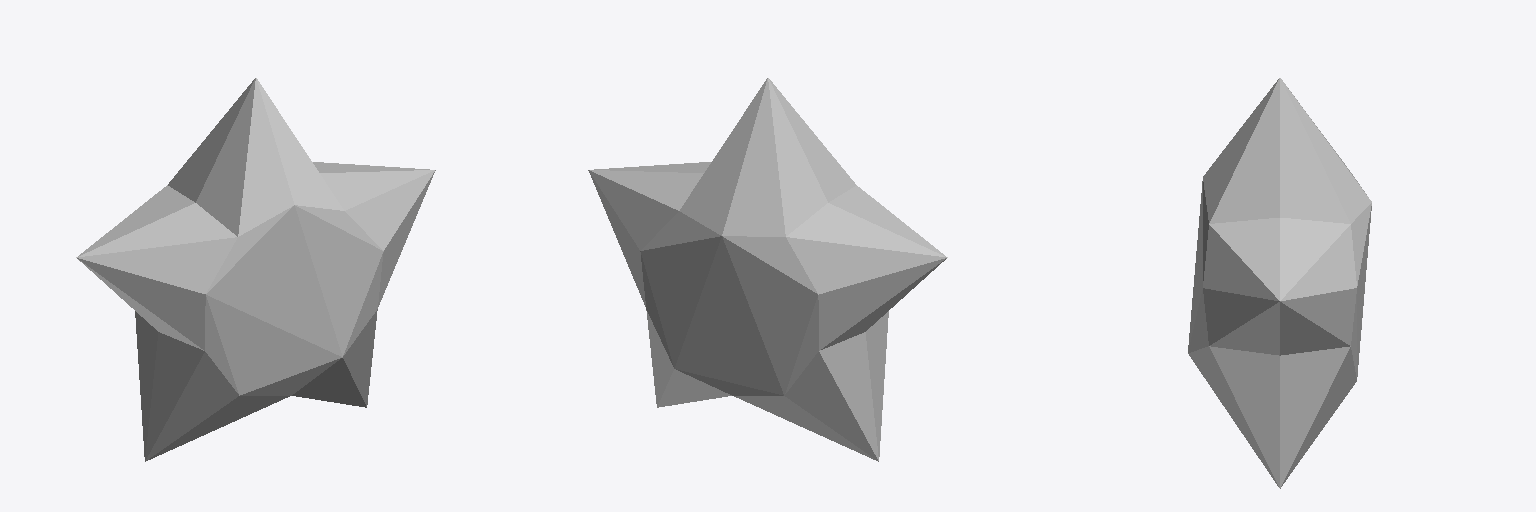
File: star.obj
The picture shows the model from 3 angles: view 1: azimuth 30°, elevation 25°; view 2: azimuth 150°, elevation 25°; view 3: azimuth 270°, elevation 25°; orthographic projection.
Visible parts, largest first — view 1: Star_Cylinder.000; view 2: Star_Cylinder.000; view 3: Star_Cylinder.000.
Boxes of the visible parts, box(x1,y1,x2,y2) form: Star_Cylinder.000: box(76, 78, 435, 461); Star_Cylinder.000: box(588, 78, 947, 461); Star_Cylinder.000: box(1188, 78, 1371, 488).
Bounding box in the file's own units: 1.56 × 1.49 × 0.6945.